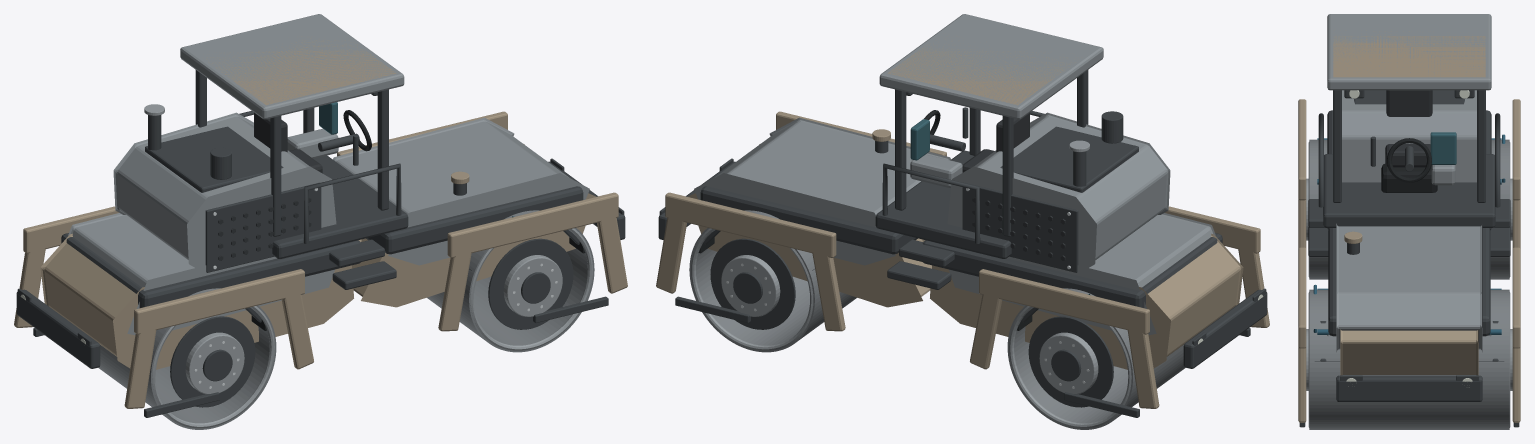
The model's file is volvo-dd128c-structural-study.glb.
3 views of the same model, side by side, from view 1: azimuth 30°, elevation 25°; view 2: azimuth 150°, elevation 25°; view 3: azimuth 270°, elevation 25° (orthographic). The views are drawn at different scales.
Visible parts, largest first — view 1: FrontWaterTank_Exterior_Reconstructed, ROPS_FOPS_Canopy, EngineHood_Main_Reconstructed, RearFrame_YokeCore, RearWaterTank_Exterior_Reconstructed, ROPS_Canopy_TopExtent, EngineServicePanel_L, OperatorPlatform, RearDrumGuard_L, FrontDrumGuard_L, RearFrame_Crossmember, FrontDrum_Shell_2000mm (+31 smaller); view 2: FrontWaterTank_Exterior_Reconstructed, ROPS_FOPS_Canopy, EngineHood_Main_Reconstructed, RearFrame_YokeCore, RearWaterTank_Exterior_Reconstructed, EngineServicePanel_R, ROPS_Canopy_TopExtent, RearDrumGuard_R, OperatorPlatform, RearFrame_Crossmember, FrontDrumGuard_R, FrontDrum_Shell_2000mm (+32 smaller); view 3: FrontWaterTank_Exterior_Reconstructed, FrontDrum_Shell_2000mm, ROPS_FOPS_Canopy, OperatorPlatform, EngineHood_Main_Reconstructed, FrontFrame_YokeCore, ROPS_Canopy_TopExtent, FrontBumper_Extent, RearDrum_Shell_2000mm, FrontFrame_Crossmember, OperatorSeat_Back, OperatorIsolationBellows (+24 smaller).
Part boxes in pixels (box(x1,y1,x2,y2)): FrontWaterTank_Exterior_Reconstructed: box(333, 117, 589, 265); ROPS_FOPS_Canopy: box(180, 14, 404, 119); EngineHood_Main_Reconstructed: box(113, 112, 336, 267); RearFrame_YokeCore: box(40, 233, 353, 369); RearWaterTank_Exterior_Reconstructed: box(68, 213, 334, 335); ROPS_Canopy_TopExtent: box(206, 36, 396, 105); EngineServicePanel_L: box(205, 182, 321, 272); OperatorPlatform: box(272, 155, 408, 258); RearDrumGuard_L: box(134, 269, 304, 334); FrontDrumGuard_L: box(447, 192, 618, 257); RearFrame_Crossmember: box(61, 233, 361, 307); FrontDrum_Shell_2000mm: box(427, 210, 594, 352); FrontWaterTank_Exterior_Reconstructed: box(694, 117, 950, 265); ROPS_FOPS_Canopy: box(879, 14, 1103, 119); EngineHood_Main_Reconstructed: box(947, 112, 1170, 267); RearFrame_YokeCore: box(930, 233, 1243, 369); RearWaterTank_Exterior_Reconstructed: box(949, 213, 1215, 335); EngineServicePanel_R: box(962, 182, 1078, 272); ROPS_Canopy_TopExtent: box(888, 39, 1075, 105); RearDrumGuard_R: box(979, 269, 1149, 334); OperatorPlatform: box(875, 150, 1011, 258); RearFrame_Crossmember: box(922, 233, 1222, 307); FrontDrumGuard_R: box(665, 192, 836, 257); FrontDrum_Shell_2000mm: box(689, 210, 856, 352); FrontWaterTank_Exterior_Reconstructed: box(1336, 223, 1482, 352); FrontDrum_Shell_2000mm: box(1309, 289, 1509, 429); ROPS_FOPS_Canopy: box(1327, 14, 1491, 90); OperatorPlatform: box(1323, 154, 1495, 227); EngineHood_Main_Reconstructed: box(1342, 90, 1476, 182); FrontFrame_YokeCore: box(1340, 329, 1478, 375); ROPS_Canopy_TopExtent: box(1333, 30, 1485, 77); FrontBumper_Extent: box(1336, 375, 1482, 401); RearDrum_Shell_2000mm: box(1309, 139, 1509, 279); FrontFrame_Crossmember: box(1328, 228, 1490, 336); OperatorSeat_Back: box(1386, 90, 1432, 116); OperatorIsolationBellows: box(1381, 163, 1437, 192).
Size of the model in its own units: 5.97 by 3.18 by 2.22.
